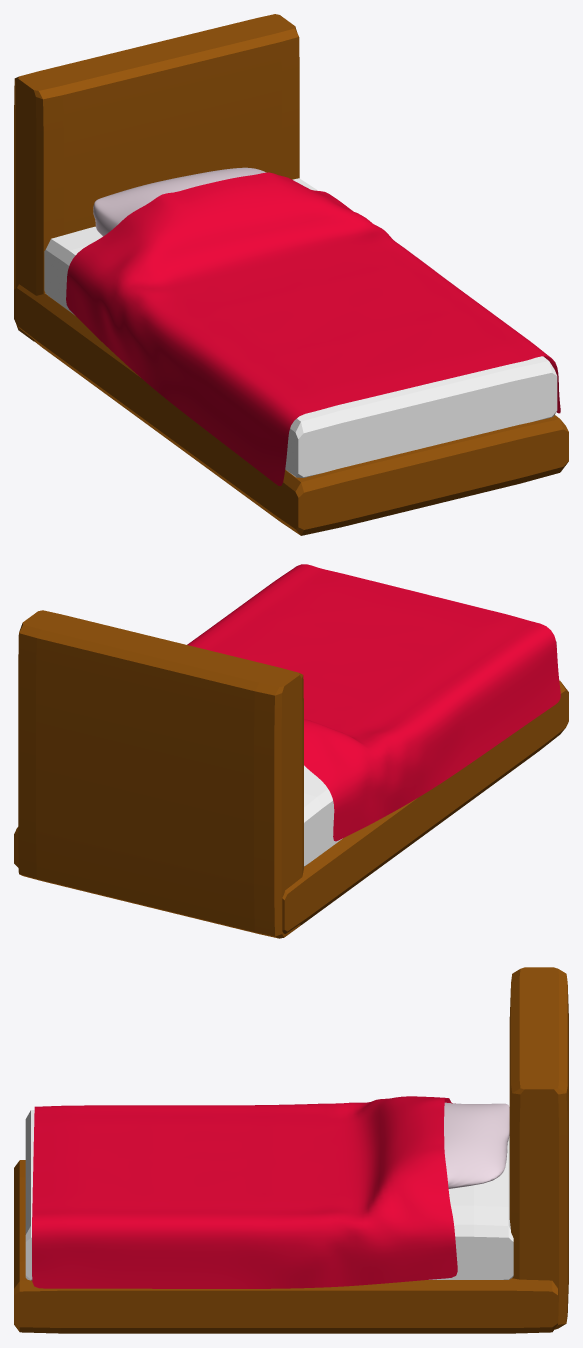
File: Bed2.fbx
3 renders of one model, top to bottom at view 1: azimuth 30°, elevation 25°; view 2: azimuth 150°, elevation 25°; view 3: azimuth 270°, elevation 25°, orthographic. The views are drawn at different scales.
Parts seen in each view (by area): view 1: Cube.001; view 2: Cube.001; view 3: Cube.001.
Part boxes in pixels (left/top/right/bottom): Cube.001: left=14, top=14, right=568, bottom=535; Cube.001: left=14, top=564, right=568, bottom=938; Cube.001: left=14, top=967, right=568, bottom=1333.
Bounding box in the file's own units: 236 × 207 × 426.
